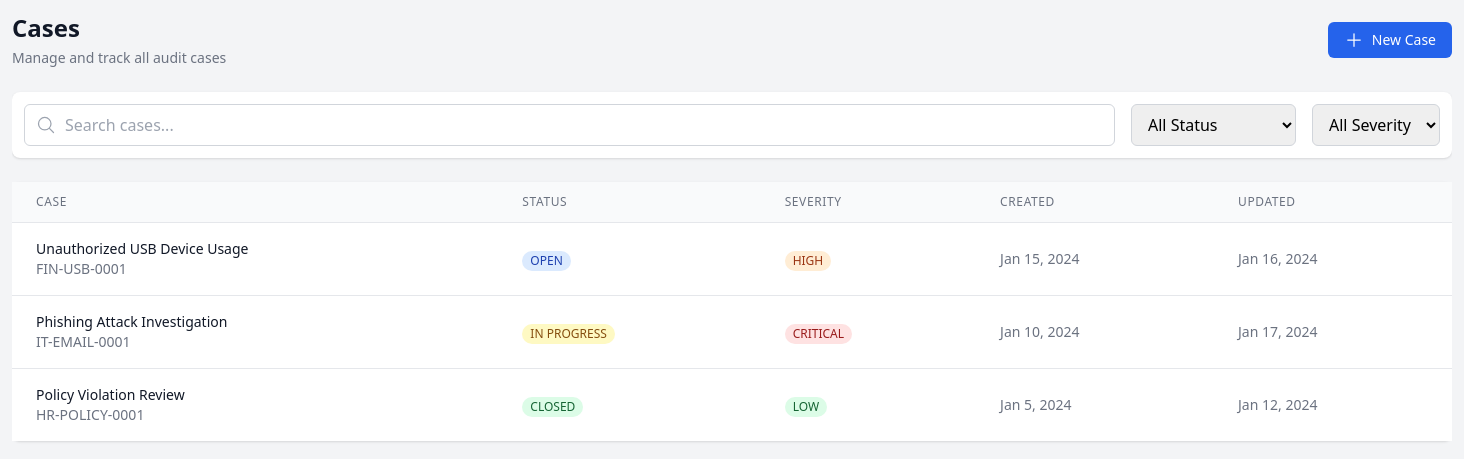
CaseList › search functionality › filters cases by title
Expected: the text "Unauthorized USB Device Usage" is shown, [36,239,248,258]
Type "USB" into the field with placeholder "Search cases...". click: (570, 125)
box: [24,104,1115,146]
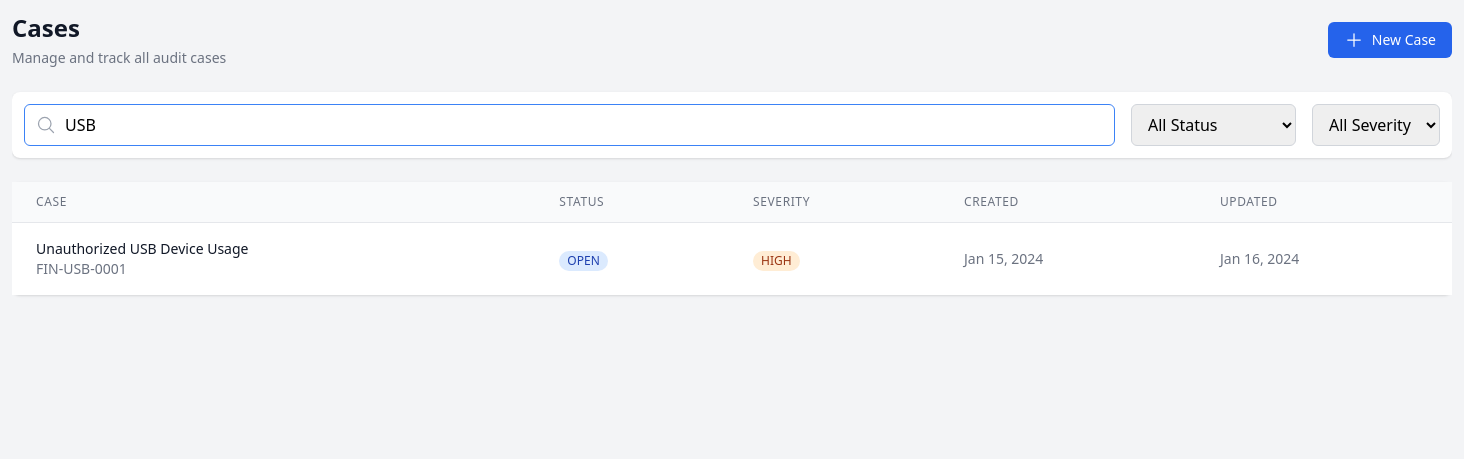
Expected: the text "Unauthorized USB Device Usage" is shown, [36,239,248,258]
Expected: the text "Phishing Attack Investigation" is gone
